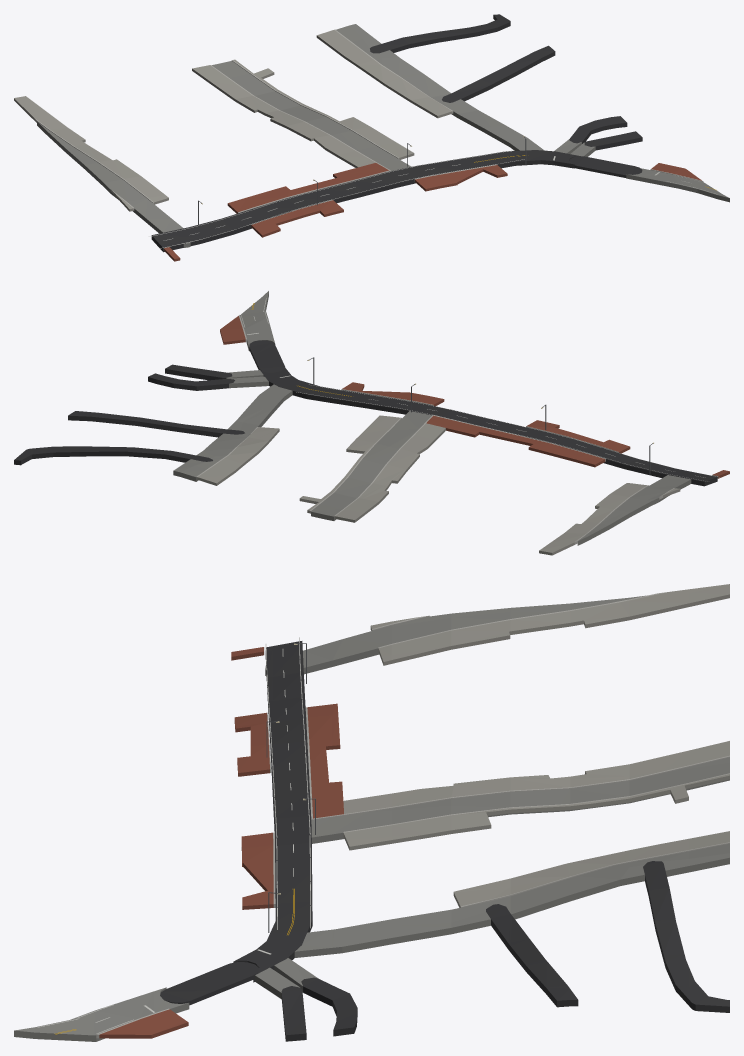
3 renders of one model, top to bottom at view 1: azimuth 30°, elevation 25°; view 2: azimuth 150°, elevation 25°; view 3: azimuth 270°, elevation 25°, orthographic. The views are drawn at different scales.
Bounding box in the file's own units: 148 × 16.59 × 120.
